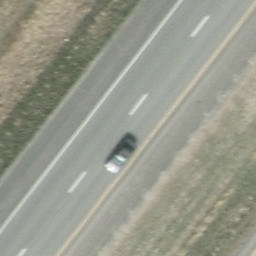car: (104, 137, 142, 178)
